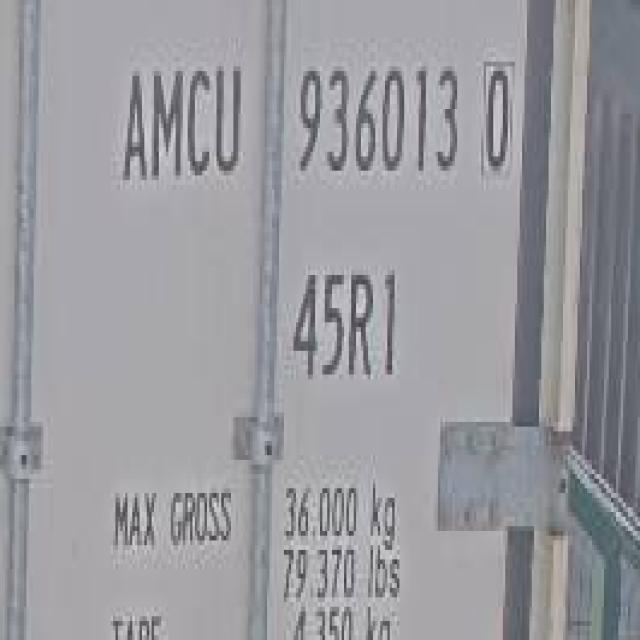dv: (477, 54, 517, 187)
owner: (116, 59, 246, 192)
serial: (286, 55, 464, 192)
size: (288, 258, 407, 390)
